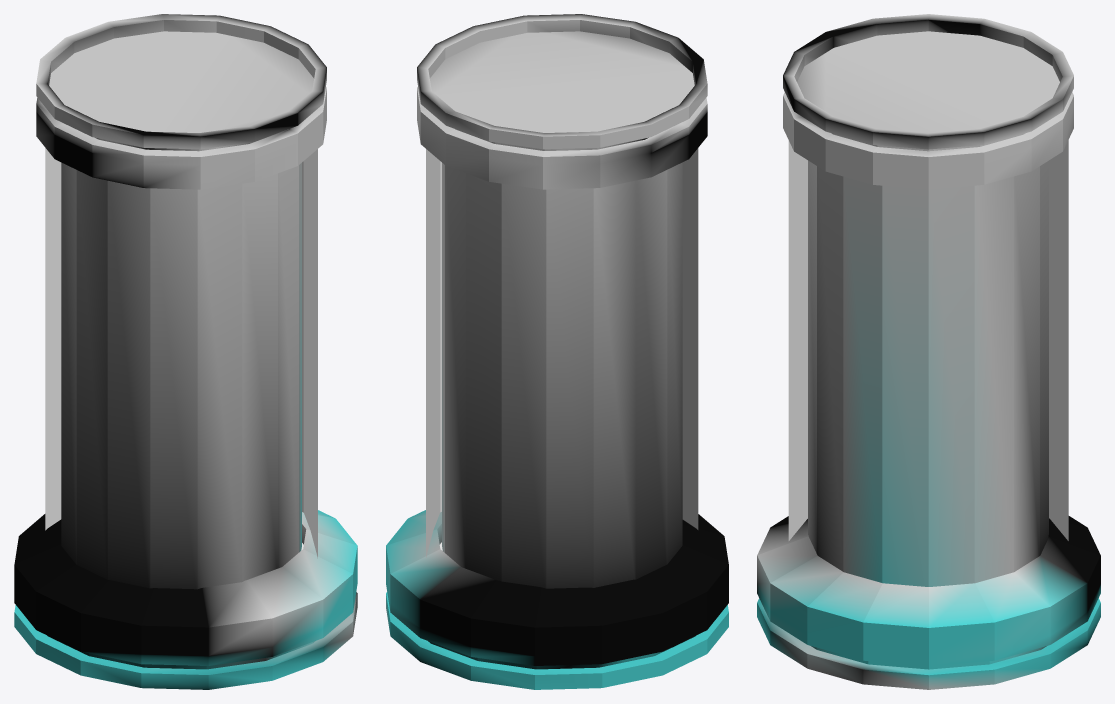
File: incubadora.glb
The picture shows the model from 3 angles, left to right: view 1: azimuth 30°, elevation 25°; view 2: azimuth 150°, elevation 25°; view 3: azimuth 270°, elevation 25°; orthographic projection.
Visible parts, largest first — view 1: Cylinder-col, Cylinder.001-col; view 2: Cylinder-col, Cylinder.001-col; view 3: Cylinder-col, Cylinder.001-col.
Part boxes in pixels (x1,y1,x2,y2): Cylinder-col: [14, 14, 357, 689]; Cylinder.001-col: [45, 148, 317, 558]; Cylinder-col: [386, 14, 728, 689]; Cylinder.001-col: [426, 148, 698, 557]; Cylinder-col: [757, 14, 1100, 689]; Cylinder.001-col: [788, 140, 1068, 540].
Bounding box in the file's own units: 1.92 × 3.32 × 1.92.
